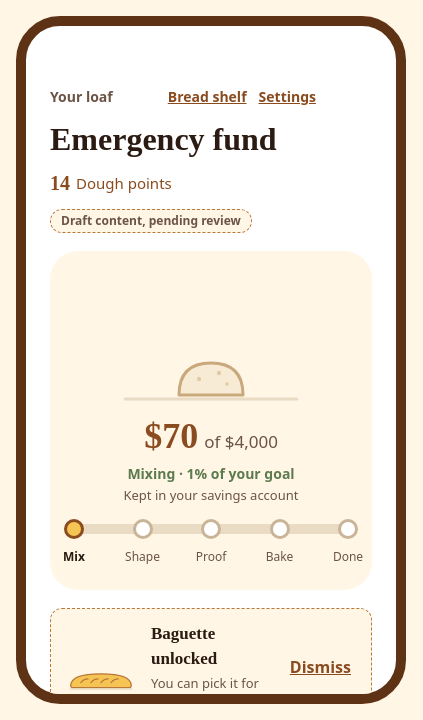
Scenario: Home streak card and unlock moment › dismissing the unlock moment is remembered and does not take the bread away
This screenshot has width=423, height=720.
Check: the text "Baguette unlocked" is shown, box [151,624,217,668]
What coordinates should you click on to do the following:
click the button "Dismiss"
I would click on:
 (320, 667)
Its box is [284,645,357,689].
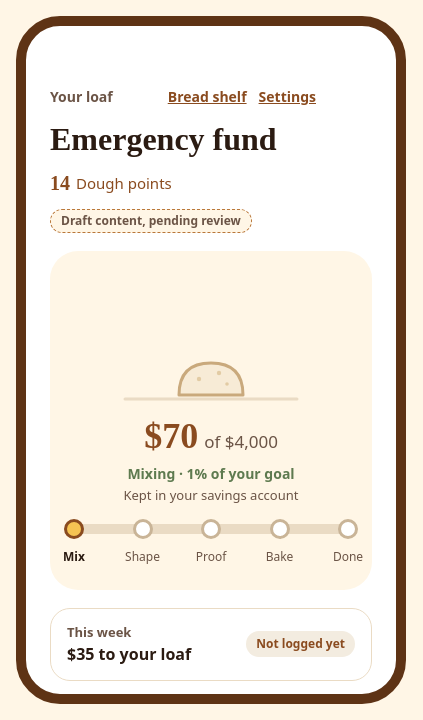
Check: the text "Baguette unlocked" is gone
